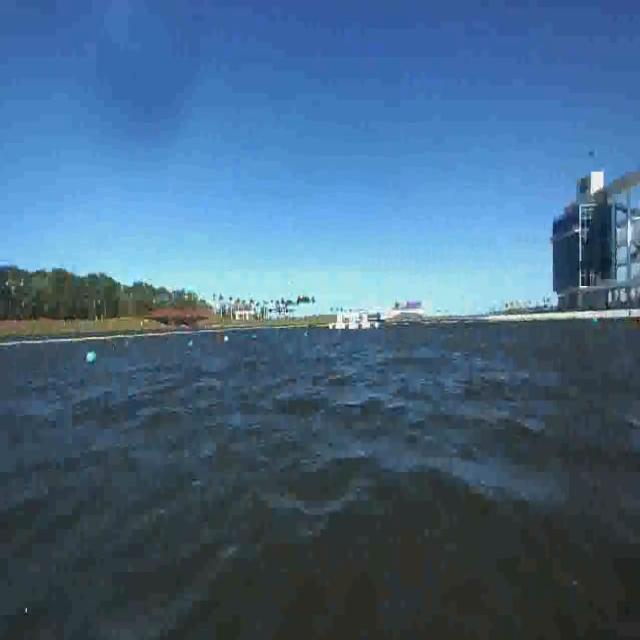green-buoy: (88, 350, 98, 365)
